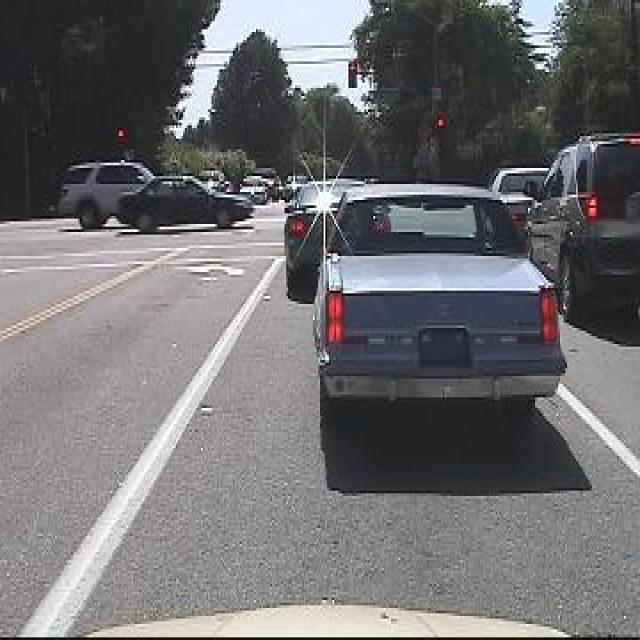car_back: (300, 180, 570, 462), (525, 130, 640, 328)
